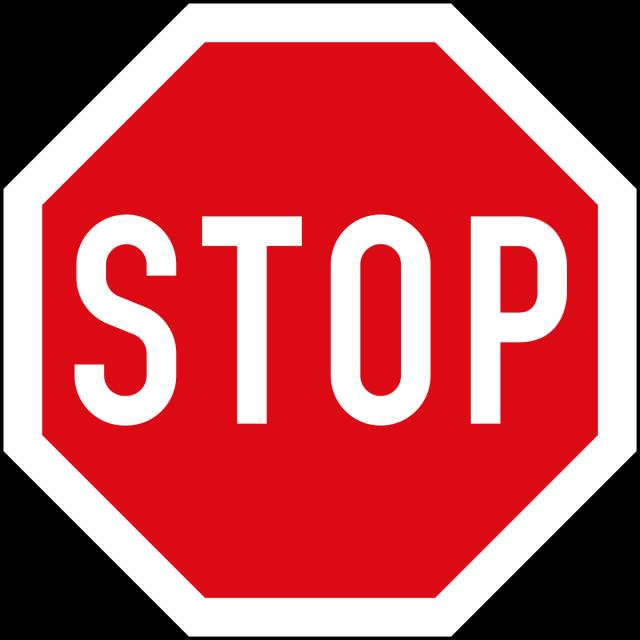stop: (64, 202, 578, 440)
